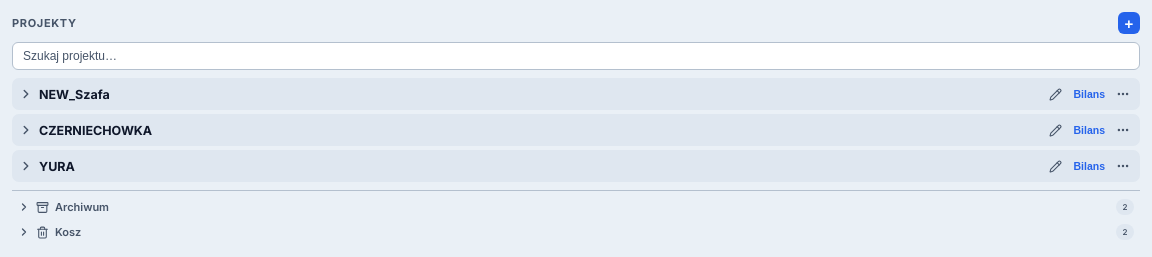
Scenario: ProjectListPanel Archiwum and Kosz › applies the search to the folder counts
This screenshot has width=1152, height=257.
Type "regał" into the field labelled "Szukaj projektu" at (576, 56), box [12,42,1140,70]
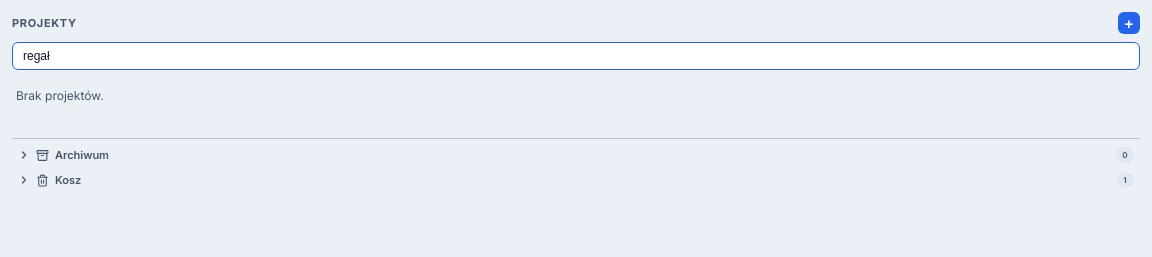
Expected: the button "Archiwum 0" is shown, [12,143,1140,167]
Expected: the button "Kosz 1" is shown, [12,168,1140,192]
